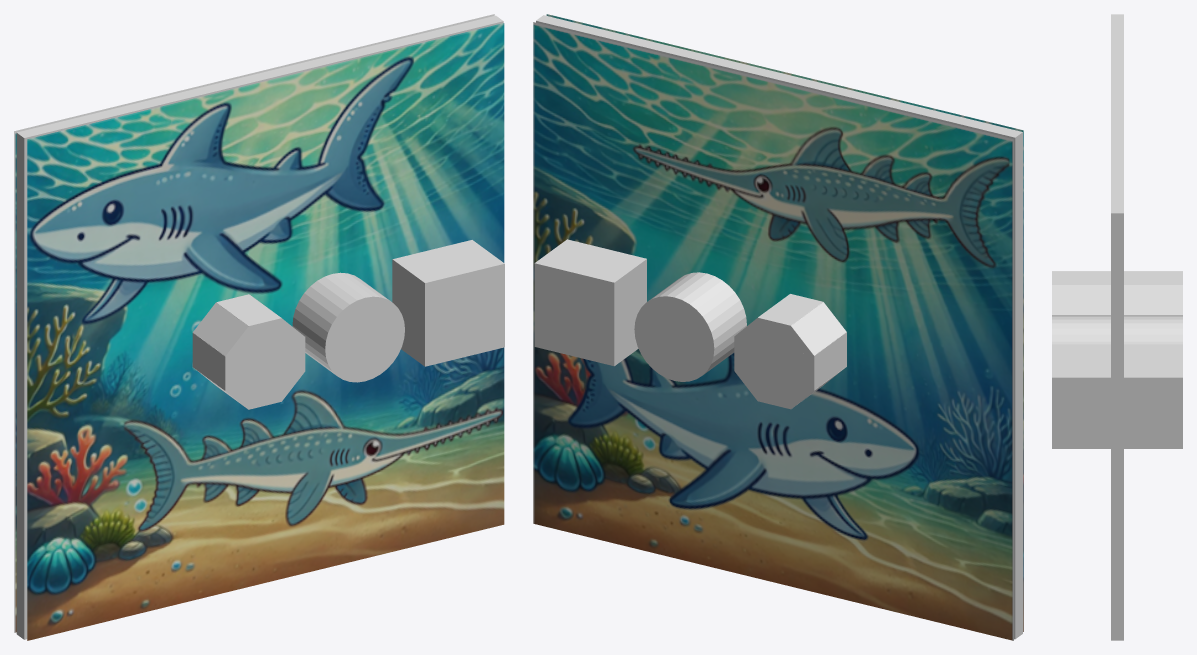
Rendered from tagging.fbx.
3 views of the same model, side by side, from view 1: azimuth 30°, elevation 25°; view 2: azimuth 150°, elevation 25°; view 3: azimuth 270°, elevation 25° (orthographic). The views are drawn at different scales.
Parts seen in each view (by area): view 1: BURTorpedo, Cube.001, Cube, Cylinder, Cube.002, Cube.004, BURTorpedo2, Cube.005, Cube.006; view 2: BURTorpedo2, Cube.001, Cube, Cylinder, Cube.002, Cube.004, Cube.005, BURTorpedo, Cube.006; view 3: Cube.001, Cube, Cube.006, Cylinder, Cube.002.
Boxes of the visible parts, x1,y1,x2,y2 form: BURTorpedo: (27,23,504,640); Cube.001: (392,240,504,366); Cube: (16,15,503,639); Cylinder: (292,272,404,382); Cube.002: (216,294,281,409); Cube.004: (192,332,305,390); BURTorpedo2: (14,14,494,632); Cube.005: (193,302,304,400); Cube.006: (194,294,304,409); BURTorpedo2: (533,22,1013,640); Cube.001: (534,239,646,366); Cube: (536,15,1022,639); Cylinder: (634,272,746,381); Cube.002: (757,294,822,409); Cube.004: (734,332,846,390); Cube.005: (735,302,846,400); BURTorpedo: (546,14,1023,631); Cube.006: (734,295,844,408); Cube.001: (1052,344,1182,448); Cube: (1111,14,1123,640); Cube.006: (1052,285,1182,315); Cylinder: (1052,316,1182,344); Cube.002: (1052,271,1182,284).
Bounding box in the file's own units: 722 × 720 × 200.
3 materials, 2 textured.
